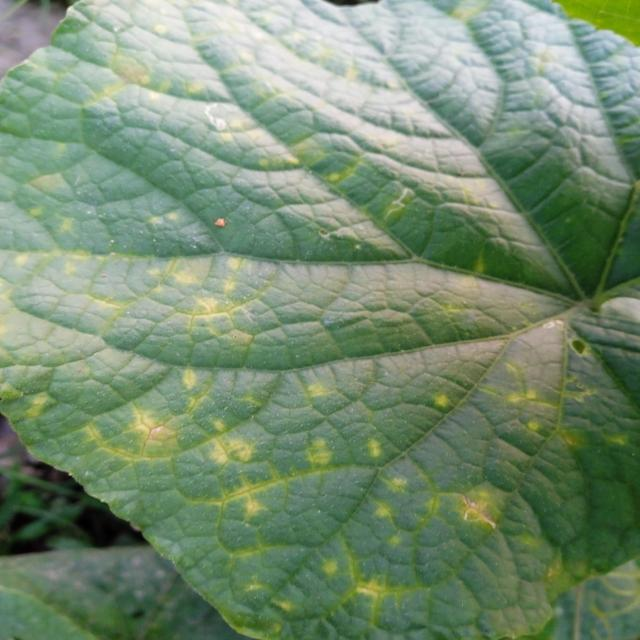cucumber_downy: (4, 11, 640, 616)
